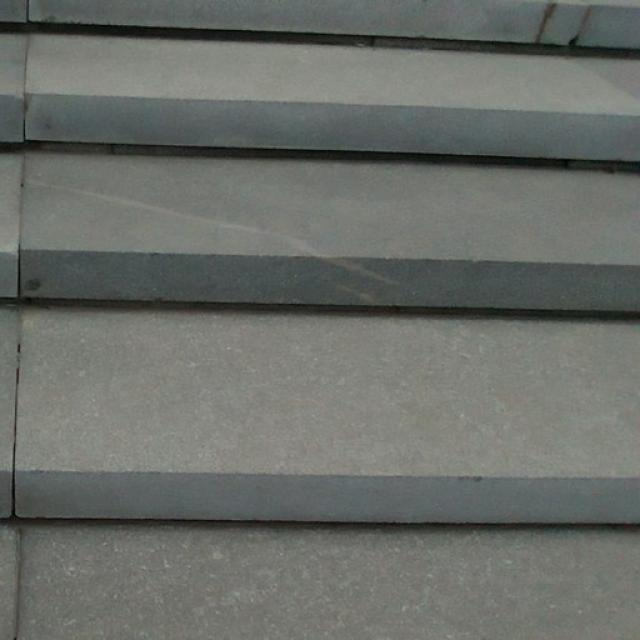Stairs: (0, 0, 639, 526)
